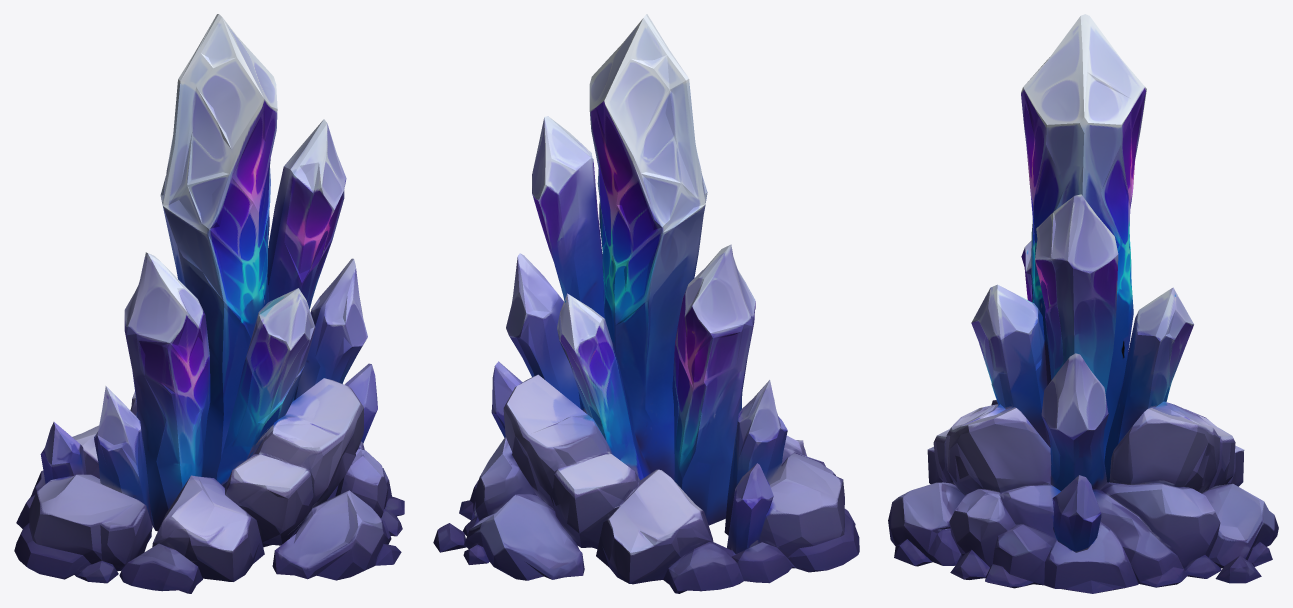
Rendered from SM_Ore32.fbx.
3 views of the same model, side by side, from view 1: azimuth 30°, elevation 25°; view 2: azimuth 150°, elevation 25°; view 3: azimuth 270°, elevation 25° (orthographic).
Parts seen in each view (by area): view 1: Ore32; view 2: Ore32; view 3: Ore32.
Boxes of the visible parts, x1=… form: Ore32: x1=14, y1=14, x2=404, y2=593; Ore32: x1=433, y1=14, x2=859, y2=593; Ore32: x1=888, y1=14, x2=1278, y2=593.
Size of the model in its own units: 140 by 187 by 131.
Materials: 1 (1 with a texture image).
